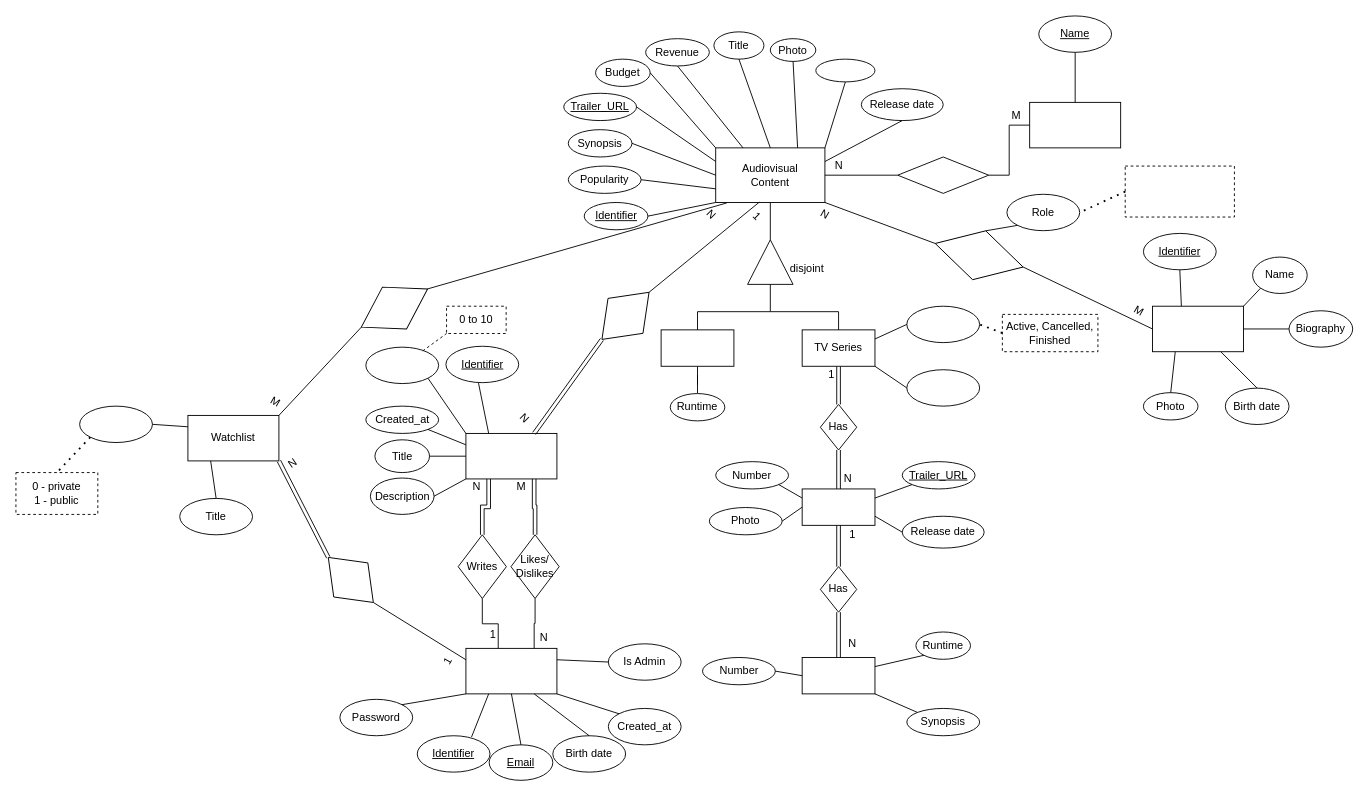
Some shapes in this 1369 by 796 pixel diagram are drawn without their labels. The shapes that lost their labels are listed below. From the top down, each one's centre as x and y in pixels, then its label:
the point at 845,70: Age Rate
the point at 1075,124: Genre
the point at 943,174: Categorized by
the point at 1179,191: Producer, Writer, Actor, Actress, Director
the point at 770,261: IS A
the point at 979,255: Composed by
the point at 394,307: Contains
the point at 625,315: About
the point at 943,324: State
the point at 697,347: Movie
the point at 1198,328: Person
the point at 402,365: Classification
the point at 943,387: Finish date
the point at 115,424: Visibility
the point at 511,456: Review
the point at 838,506: Season
the point at 350,579: Create
the point at 511,670: User
the point at 838,675: Episode
